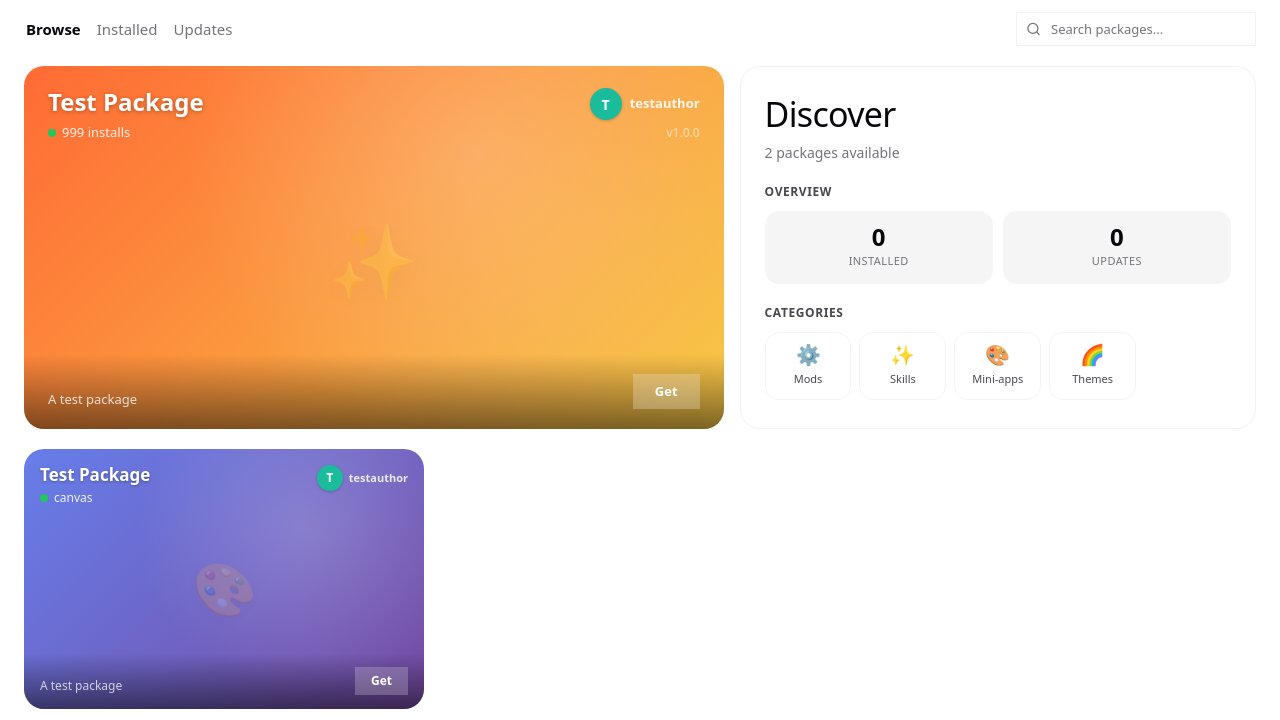
Test case: PackageDetail › shows download count only when downloads > 0 in detail stats
Click the element with class "store-card" at {"x": 224, "y": 579}, box [24, 449, 424, 709]
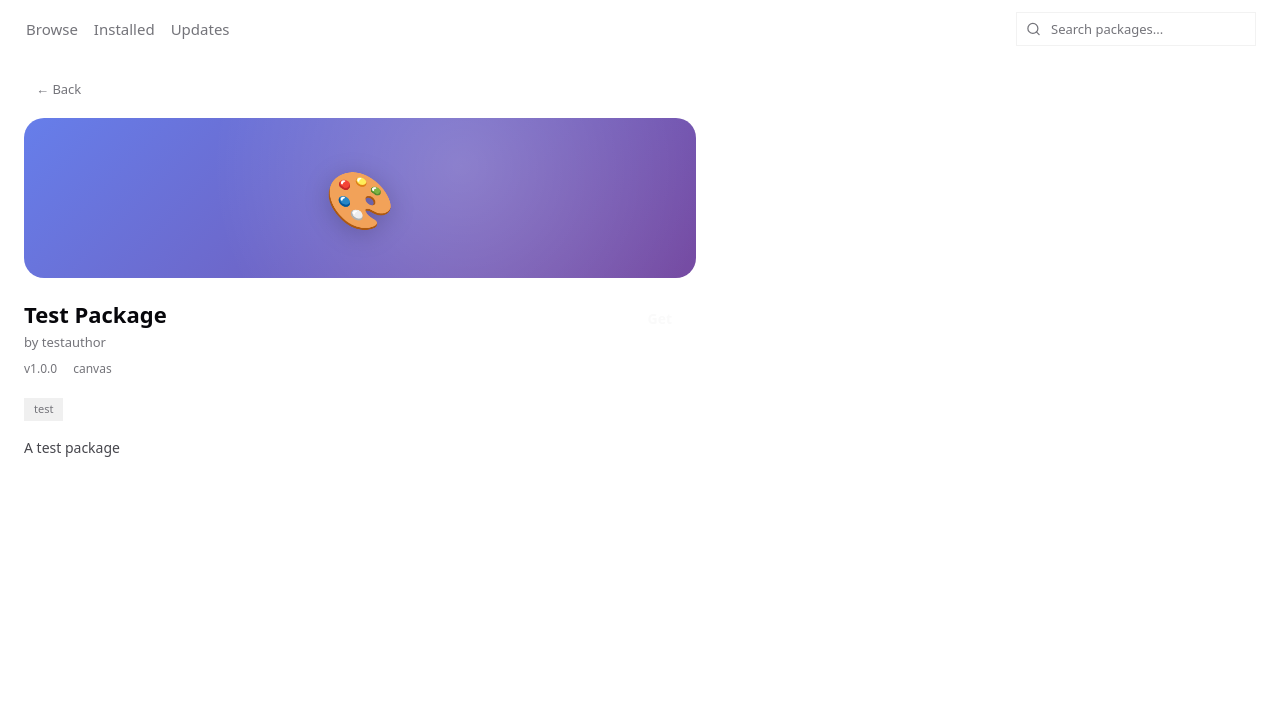
Expected: the element with class "store-detail-stats" no longer shows "installs"
Expected: the element with class "store-detail-stats" shows "canvas", [73, 360, 112, 377]
